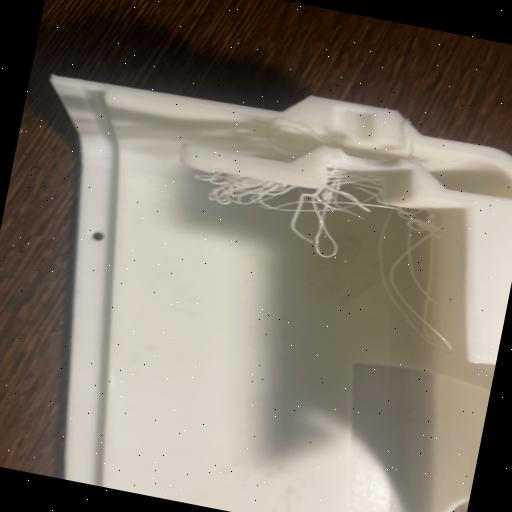stringing: (186, 152, 444, 313)
